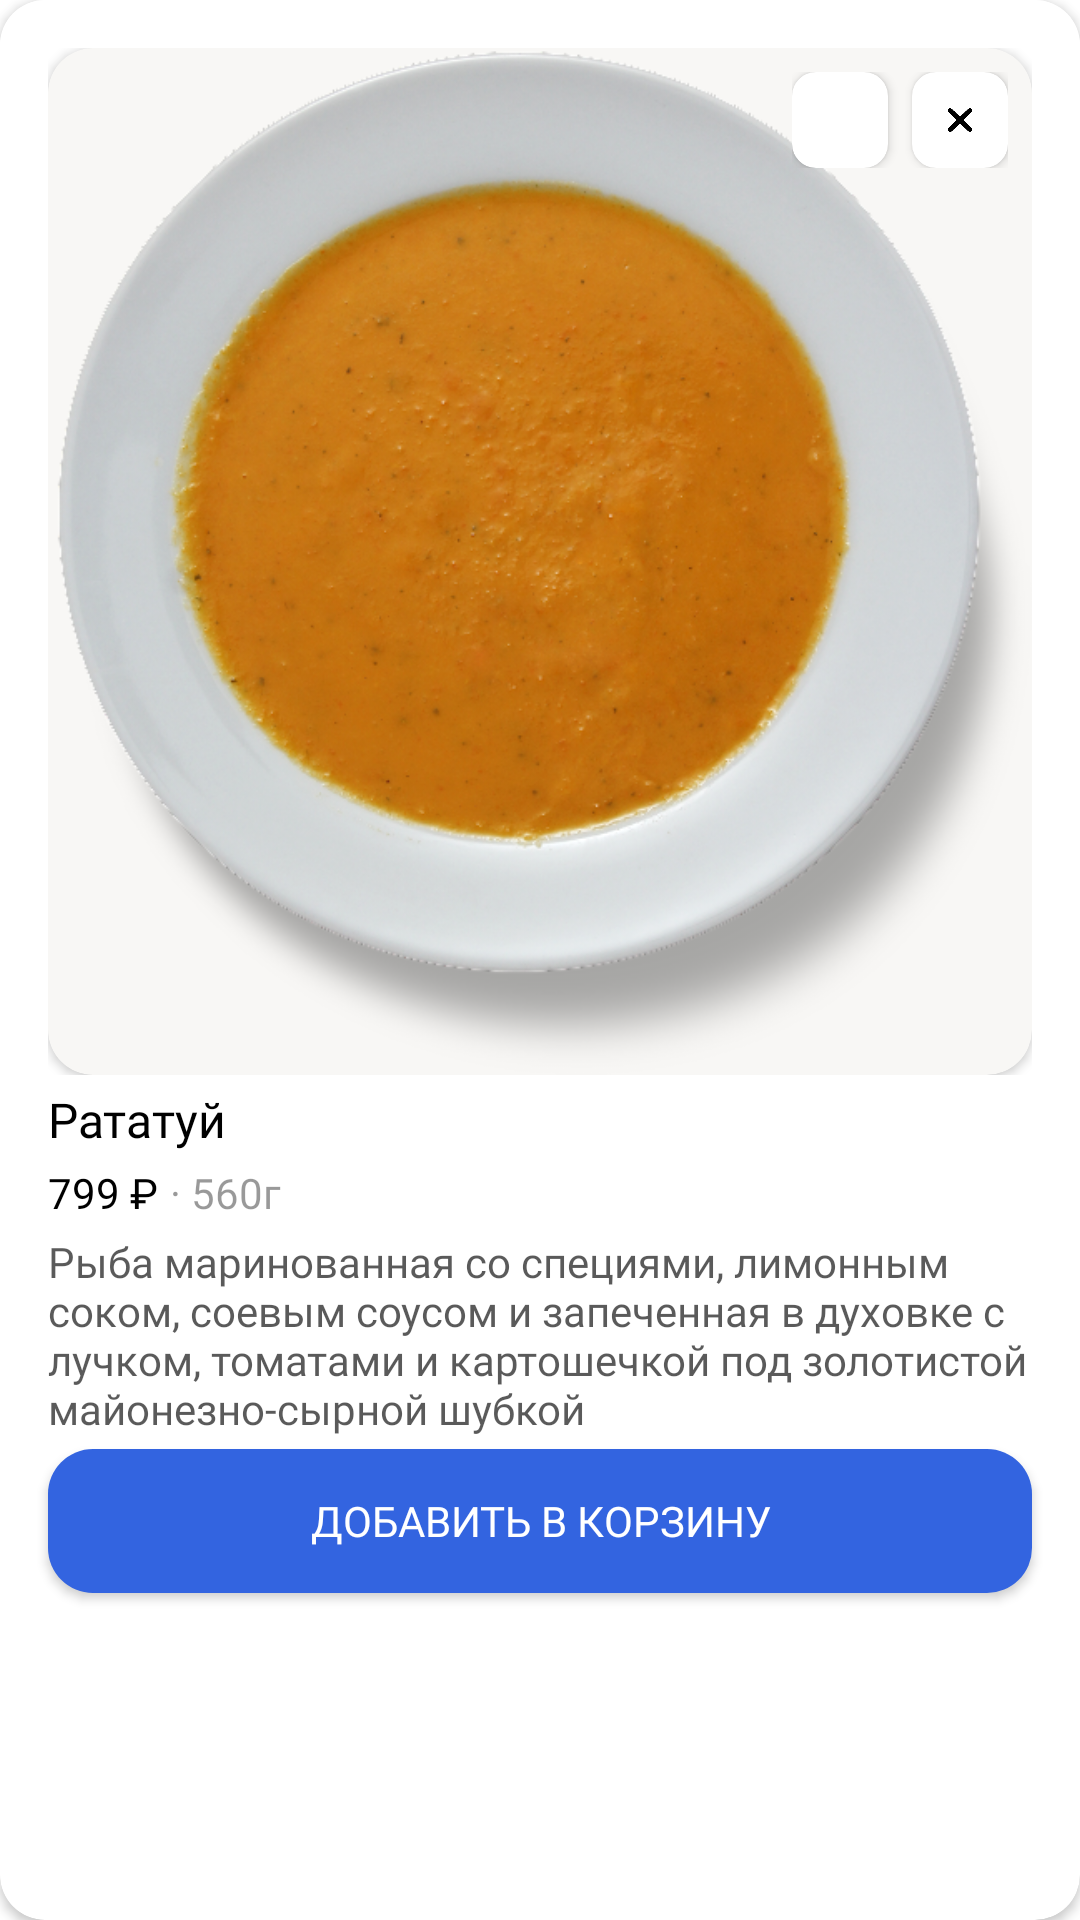

Where to tap for icons on this 1080 x 1920 app screen, as (x=x, y=y):
close: (x=960, y=120)
